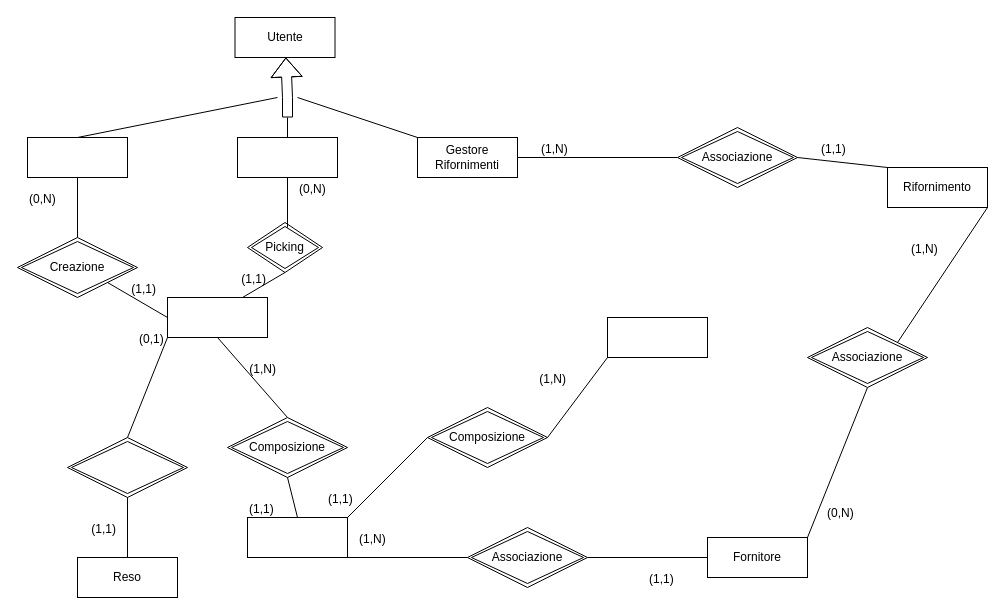
This 1006x615 diagram has some shape labels left out. Here are the shapes that lost their labels. From the top down, the centre of each, then its label:
At [77,157]: "Cliente".
At [287,157]: "Picking Operator".
At [217,317]: "Ordine".
At [657,337]: "Magazzino".
At [127,467]: "Restituzione".
At [297,537]: "Item".
